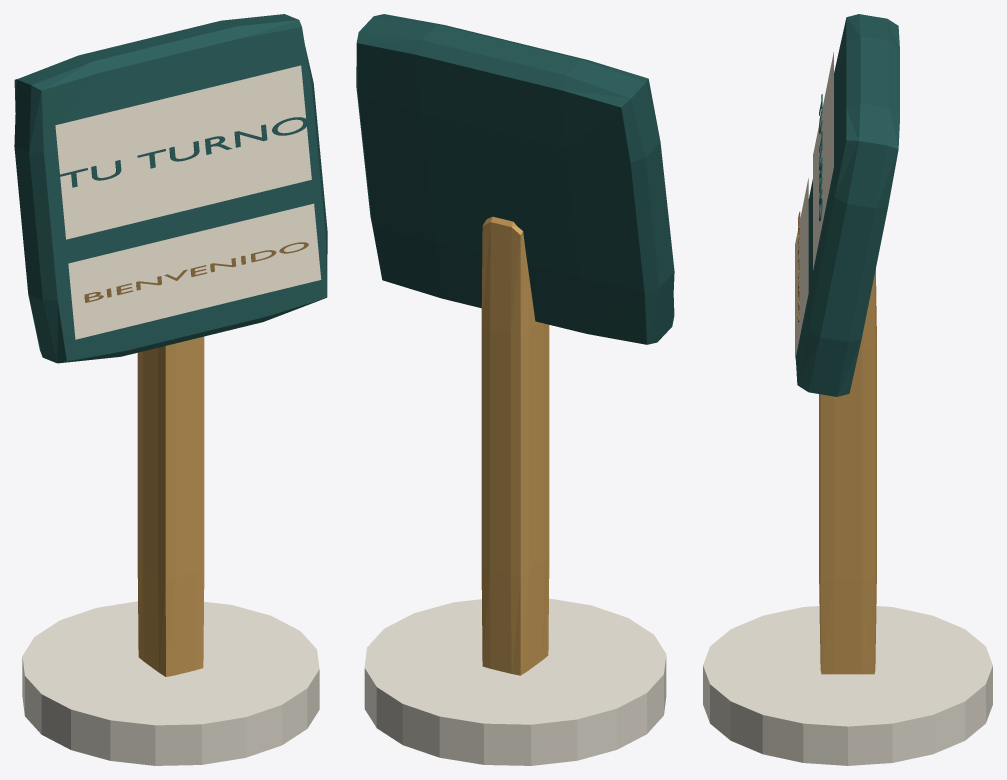
The model's file is hiperreal-hd.glb.
3 views of the same model, side by side, from view 1: azimuth 30°, elevation 25°; view 2: azimuth 150°, elevation 25°; view 3: azimuth 270°, elevation 25° (orthographic). The views are drawn at different scales.
Parts seen in each view (by area): view 1: Native component 2, Native component 0, Native component 3, Native component 1, Native component 4, Sign TU TURNO, Sign BIENVENIDO; view 2: Native component 2, Native component 0, Native component 1; view 3: Native component 0, Native component 2, Native component 1, Native component 3, Native component 4.
Boxes of the visible parts, left/top/right/bottom form: Native component 2: left=14, top=14, right=327, bottom=363; Native component 0: left=22, top=601, right=319, bottom=765; Native component 3: left=55, top=65, right=311, bottom=239; Native component 1: left=137, top=336, right=204, bottom=676; Native component 4: left=68, top=203, right=321, bottom=339; Sign TU TURNO: left=59, top=117, right=308, bottom=187; Sign BIENVENIDO: left=84, top=242, right=308, bottom=302; Native component 2: left=356, top=14, right=674, bottom=344; Native component 0: left=364, top=598, right=666, bottom=765; Native component 1: left=481, top=216, right=549, bottom=675; Native component 0: left=703, top=606, right=992, bottom=765; Native component 2: left=796, top=14, right=899, bottom=396; Native component 1: left=819, top=269, right=876, bottom=674; Native component 3: left=813, top=52, right=833, bottom=270; Native component 4: left=795, top=178, right=808, bottom=360.
Size of the model in its own units: 0.66 by 1.45 by 0.6.
